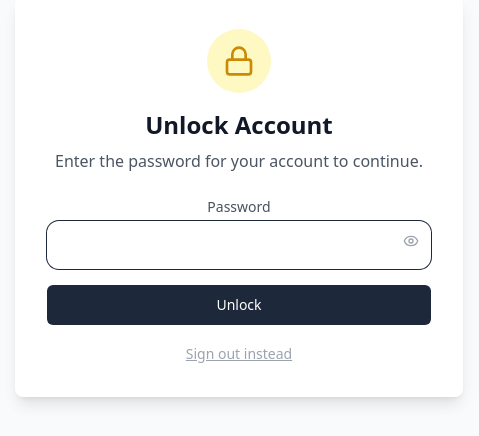
it: EncryptionGate › shows "Incorrect password" when unwrapping rejects with a DOMException
The image size is (479, 436).
Check: the heading "Unlock Account" is shown, box [145,109,333,141]
Type "wrong-password" into the password field labelled "Password". click: (239, 245)
box: [47,221,431,269]
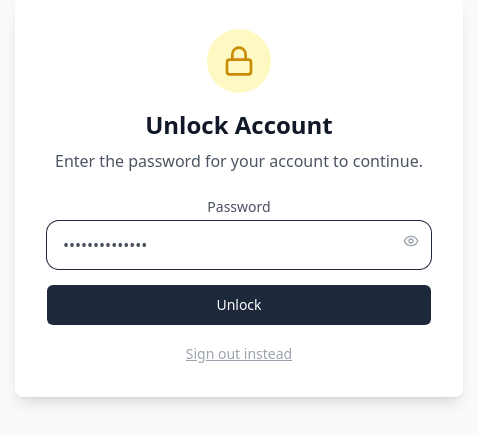
Click the button "Unlock". click: (239, 305)
box: [47,285,431,325]
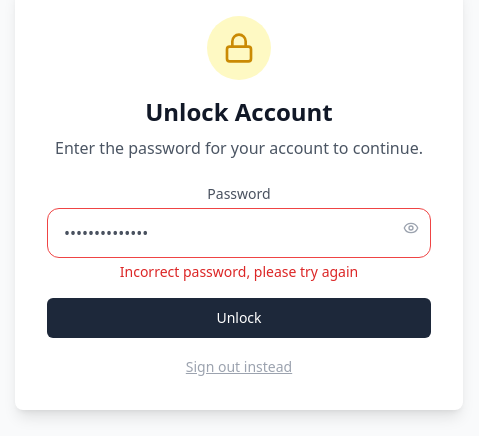
Check: the text "Incorrect password, please try again" is shown, box [120,262,358,281]
